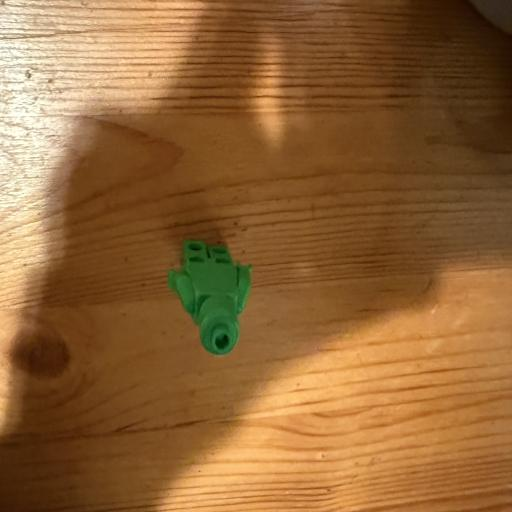Minifig: (168, 241, 251, 355)
